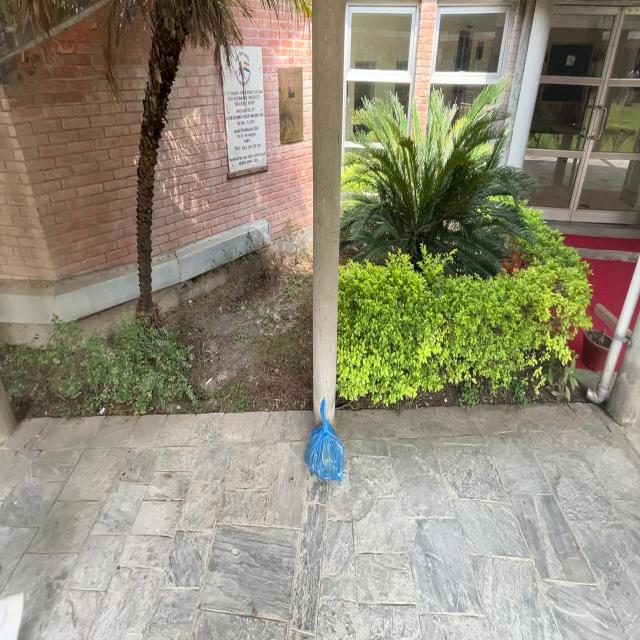garbage: (296, 396, 385, 490)
